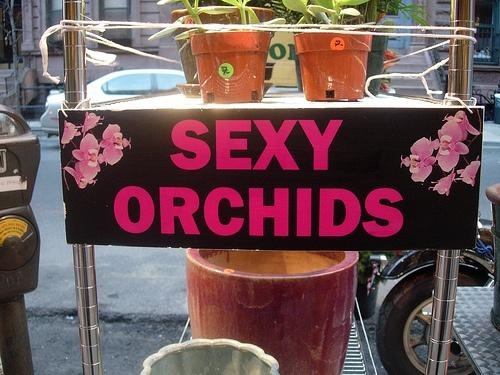car: (43, 66, 192, 131)
motorbike: (372, 223, 498, 372)
pottedplant: (292, 1, 397, 94), (177, 1, 275, 100), (172, 1, 274, 94), (284, 1, 376, 99)
